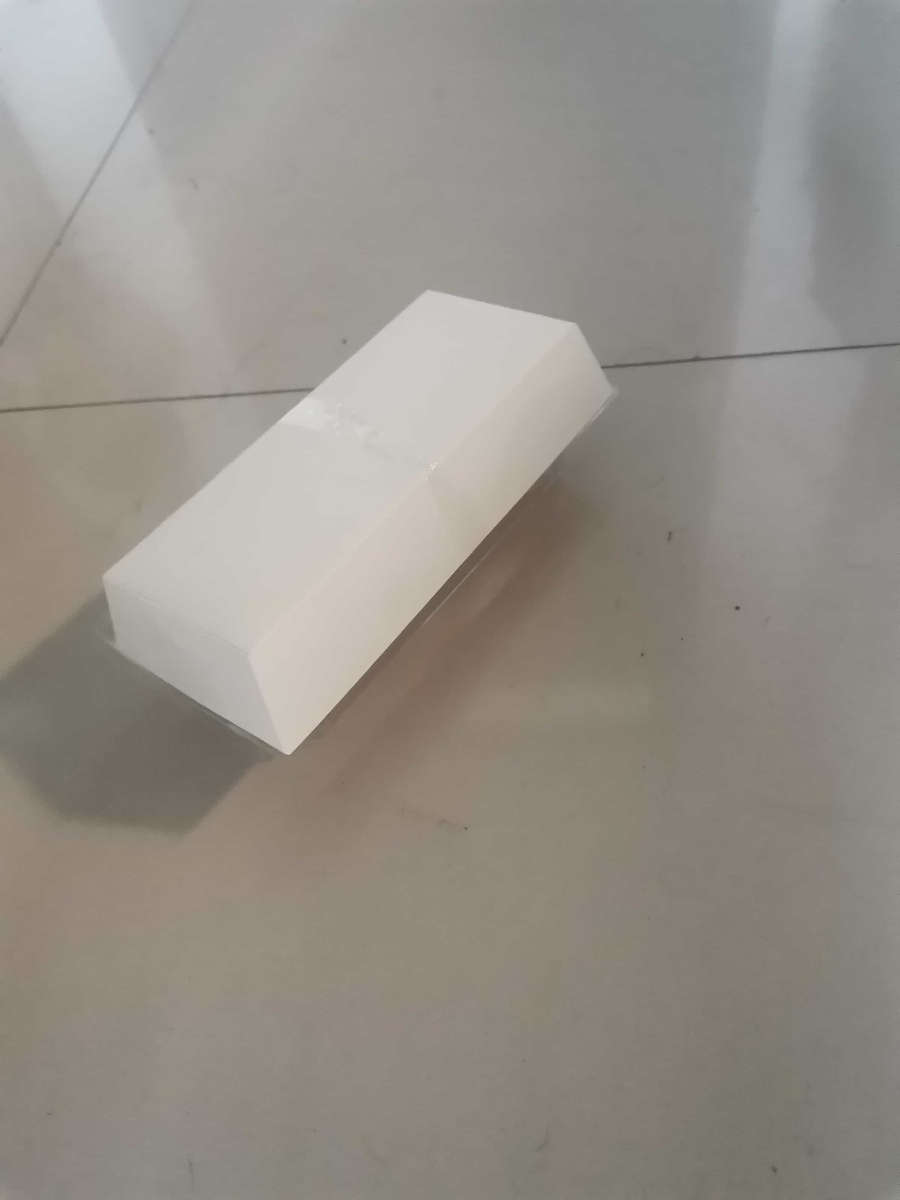cake box: (91, 279, 630, 770)
